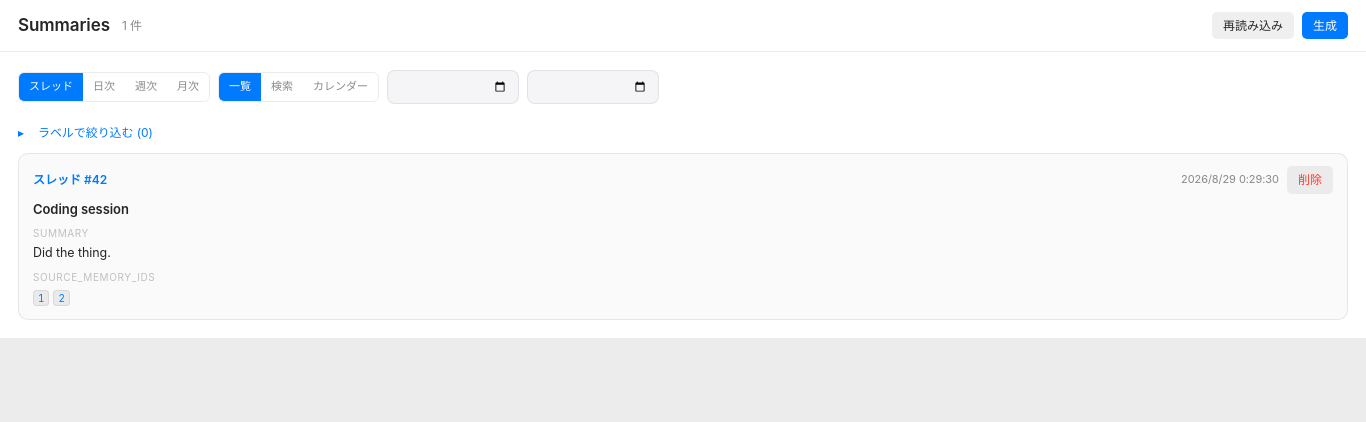
Test: Summaries per-thread label filter › hides the filter and clears its selection for period summaries
Click the heading "ラベルで絞り込む (0)" at (95, 132), box [38,125,153,140]
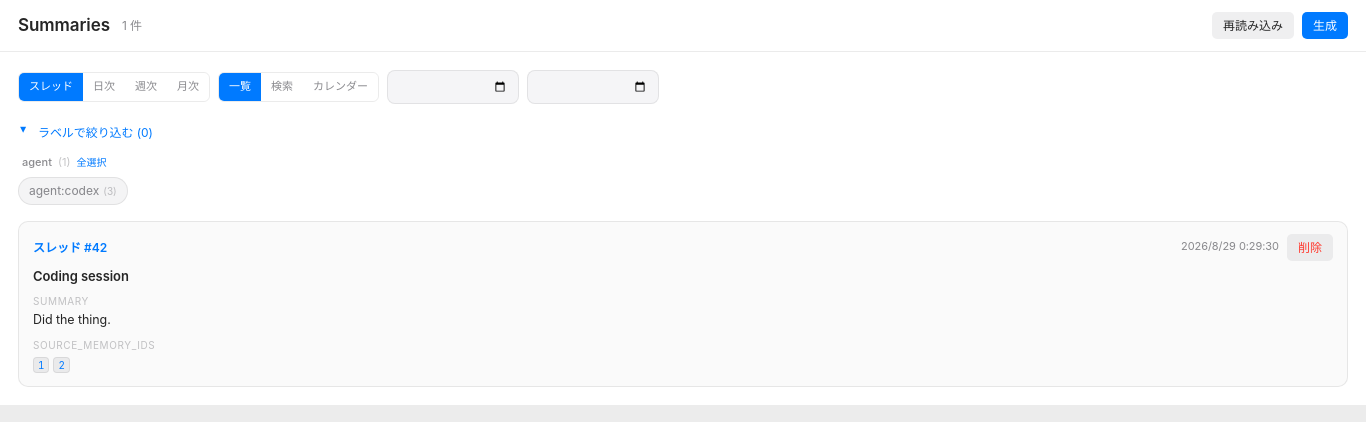
Click the button "agent:codex (3)" at (73, 191), box [18,177,128,204]
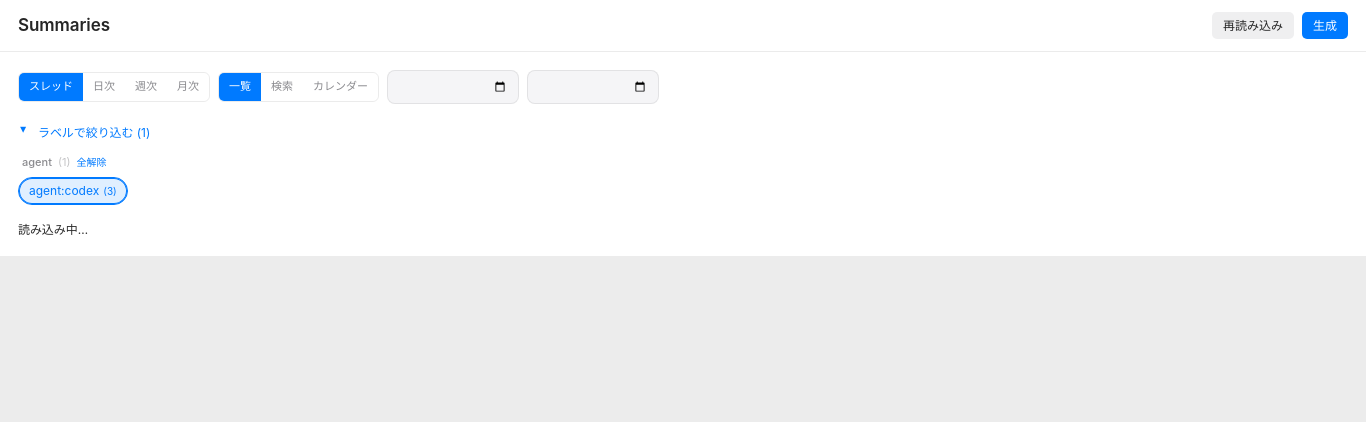
Click the button "日次" at (104, 87), box [83,73,125,101]
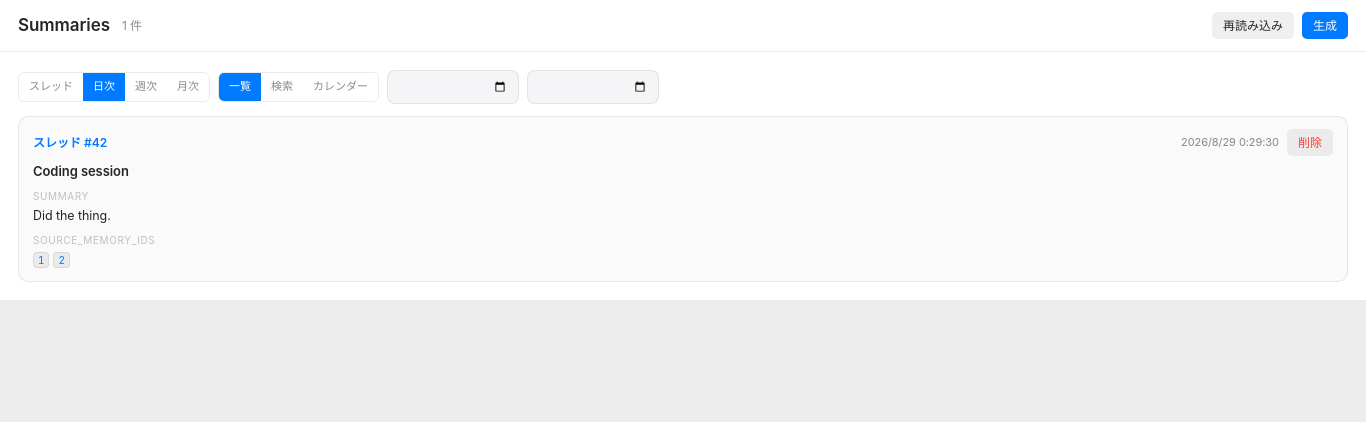
Expected: the heading "ラベルで絞り込む" is gone
